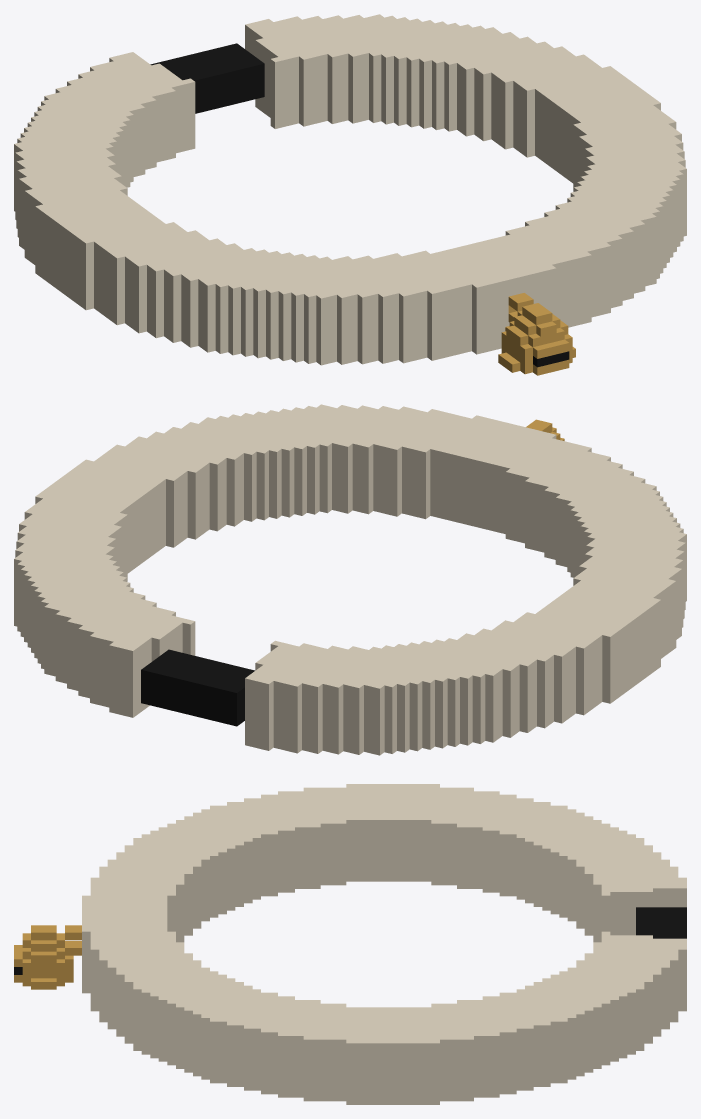
Rendered from faux_fur_collar.glb.
The picture shows the model from 3 angles, top to bottom: view 1: azimuth 30°, elevation 25°; view 2: azimuth 150°, elevation 25°; view 3: azimuth 270°, elevation 25°; orthographic projection. The views are drawn at different scales.
Parts seen in each view (by area): view 1: faux_fur_collar:compound; view 2: faux_fur_collar:compound; view 3: faux_fur_collar:compound.
Part boxes in pixels (<box>): faux_fur_collar:compound: <box>14,14,686,375</box>; faux_fur_collar:compound: <box>14,404,686,755</box>; faux_fur_collar:compound: <box>14,784,686,1104</box>.
Bounding box in the file's own units: 0.144 × 0.016 × 0.158.
